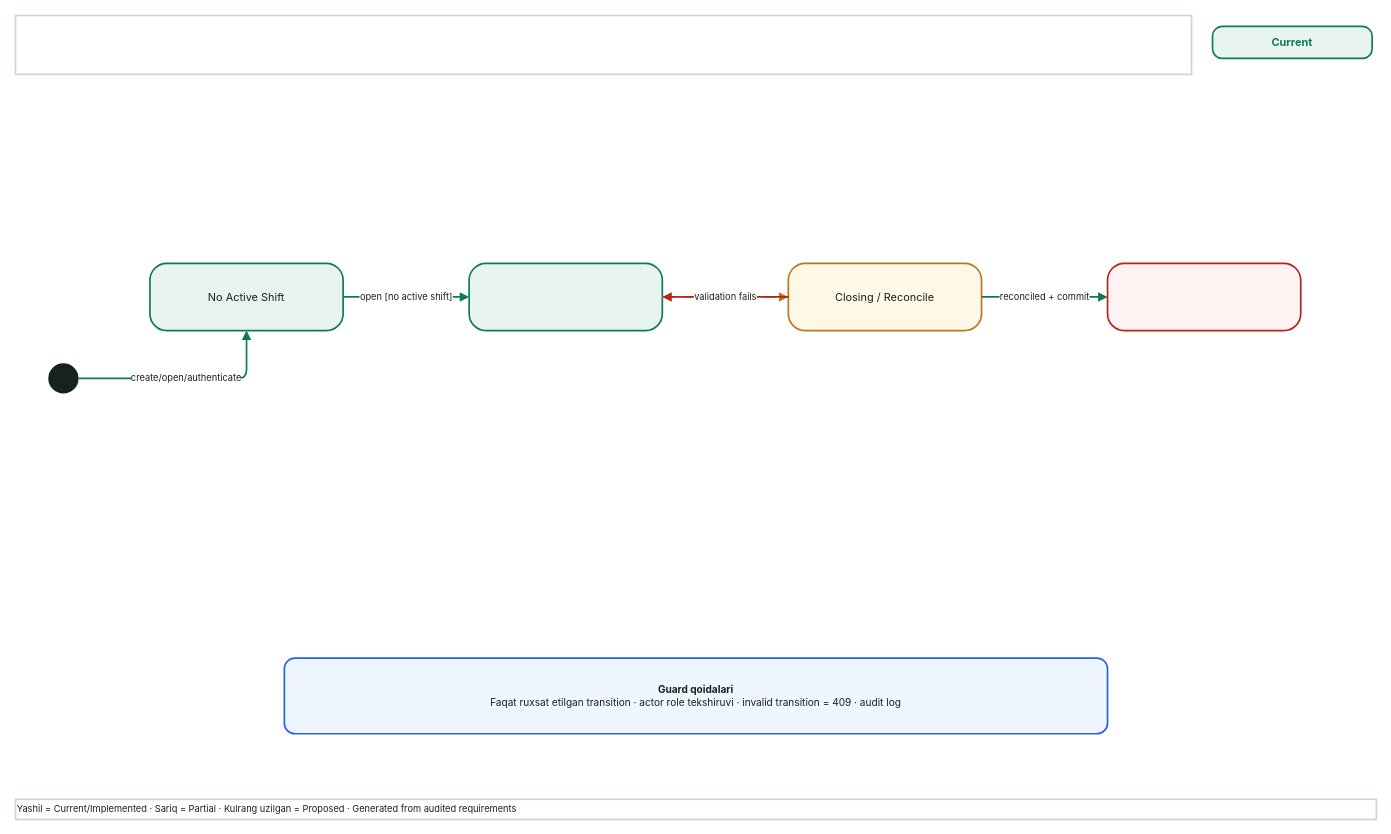
Some shapes in this 1391 by 834 pixel diagram are drawn without their labels. The box of each missing label's shape, as (x1, y1, x2, y2) in pixels:
Closed + ZReport: (1106, 262, 1301, 331)
D18 · Shift State Machine UML State Machine · osonCafe SDLC: (14, 14, 1192, 75)
Open: (468, 262, 663, 331)
